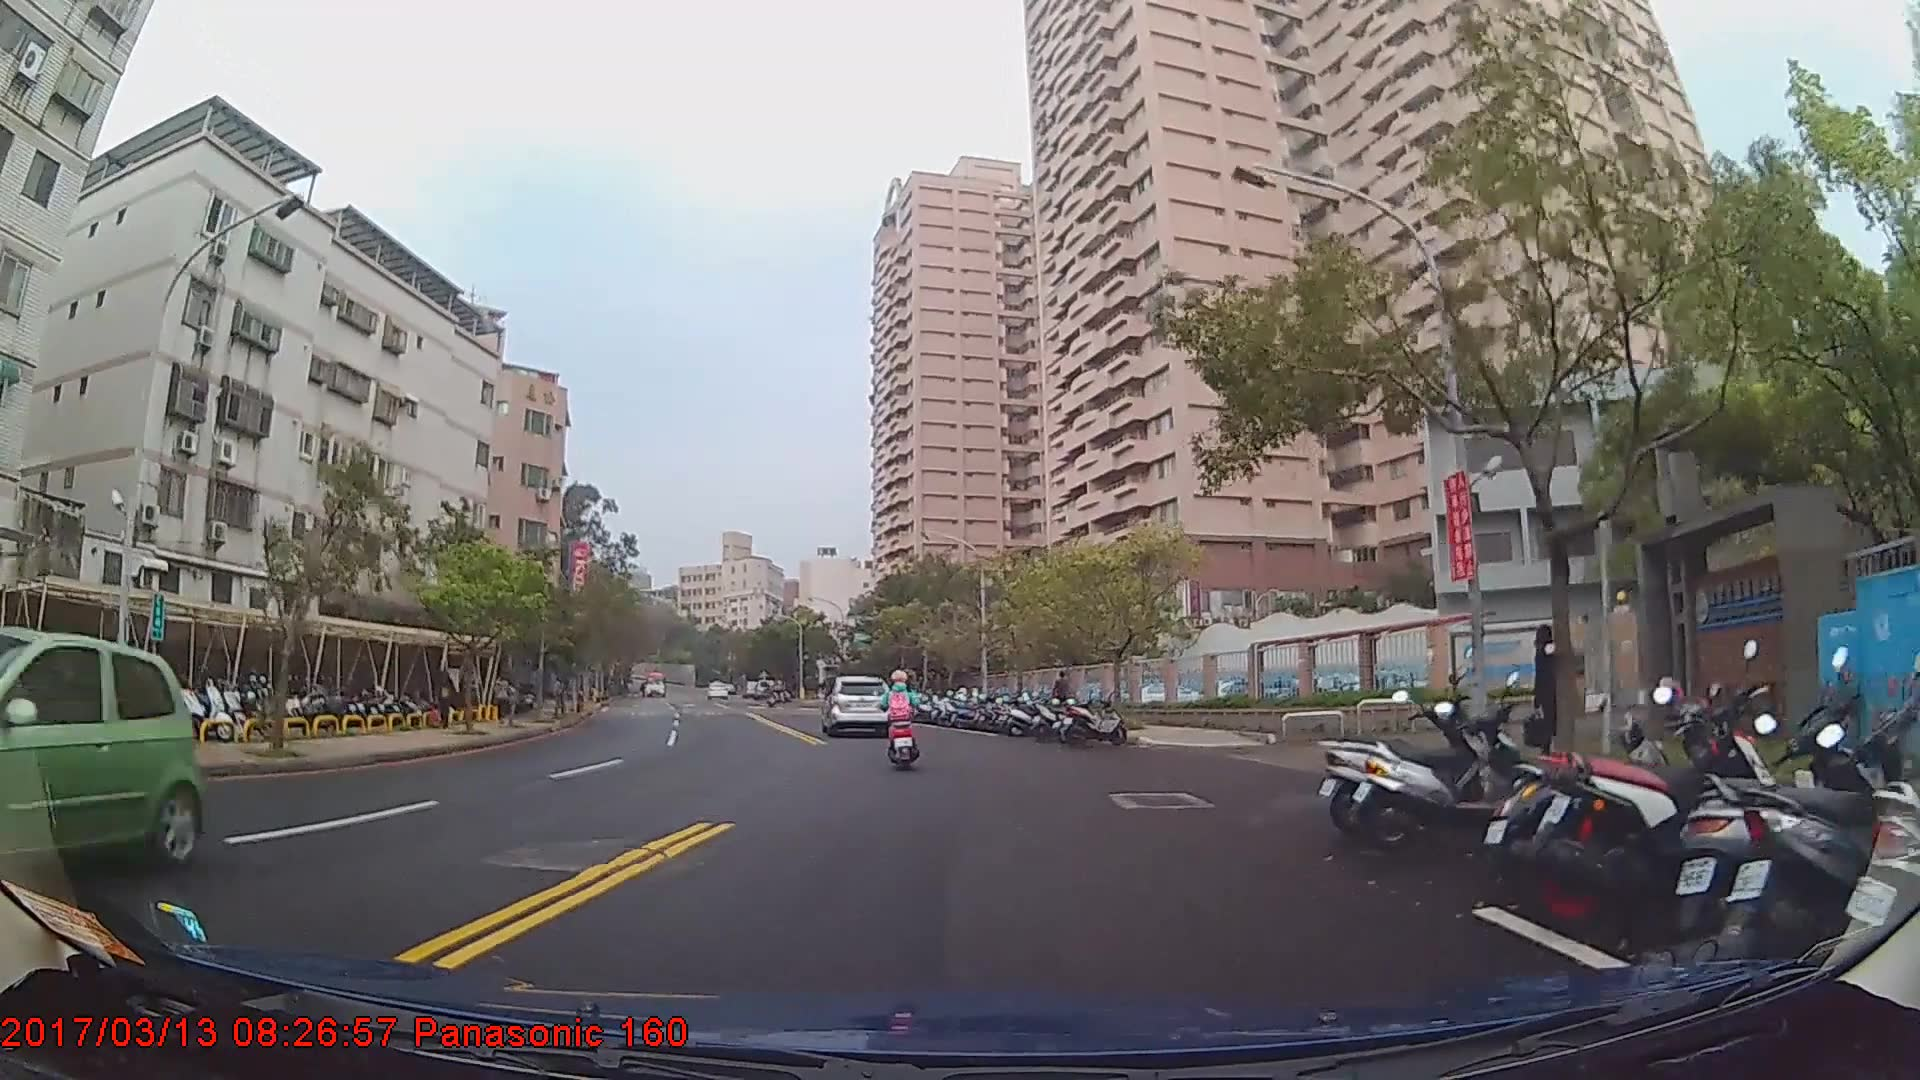pedestrian: (1533, 623, 1574, 769), (432, 670, 459, 729), (1055, 670, 1076, 727)
rider: (882, 669, 925, 766)
vehicle: (0, 629, 198, 885), (819, 672, 893, 737), (641, 666, 672, 696)
